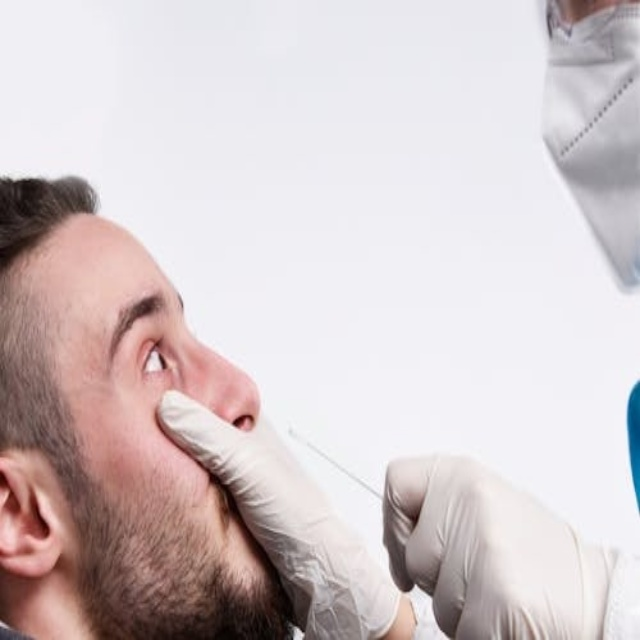Gafas: (527, 4, 635, 44)
Guantes: (157, 388, 410, 640), (378, 451, 620, 640)
Mascara: (536, 15, 639, 296)
Sin_gafas: (68, 275, 204, 381)
